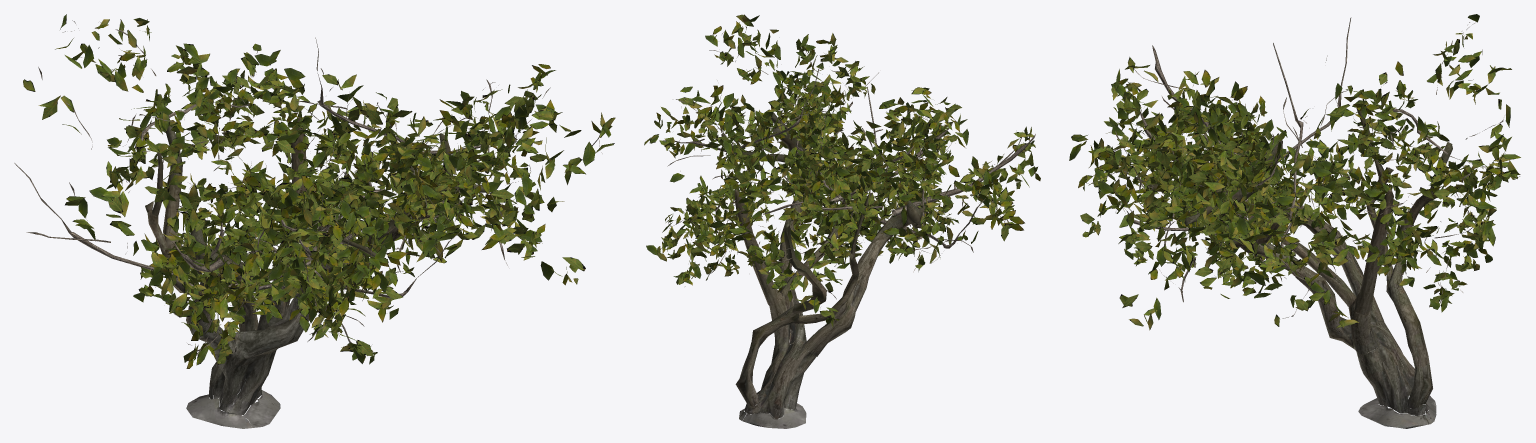
The model's file is tree_island.glb.
3 renders of one model, left to right at view 1: azimuth 30°, elevation 25°; view 2: azimuth 150°, elevation 25°; view 3: azimuth 270°, elevation 25°, orthographic. The views are drawn at different scales.
Parts seen in each view (by area): view 1: Tree_Island; view 2: Tree_Island; view 3: Tree_Island.
Part boxes in pixels (box(x1,y1,x2,y2)): Tree_Island: box(14, 14, 615, 428); Tree_Island: box(644, 14, 1040, 428); Tree_Island: box(1069, 14, 1520, 428).
Size of the model in its own units: 4.29 by 3.66 by 4.04.
3 materials, 3 textured.
